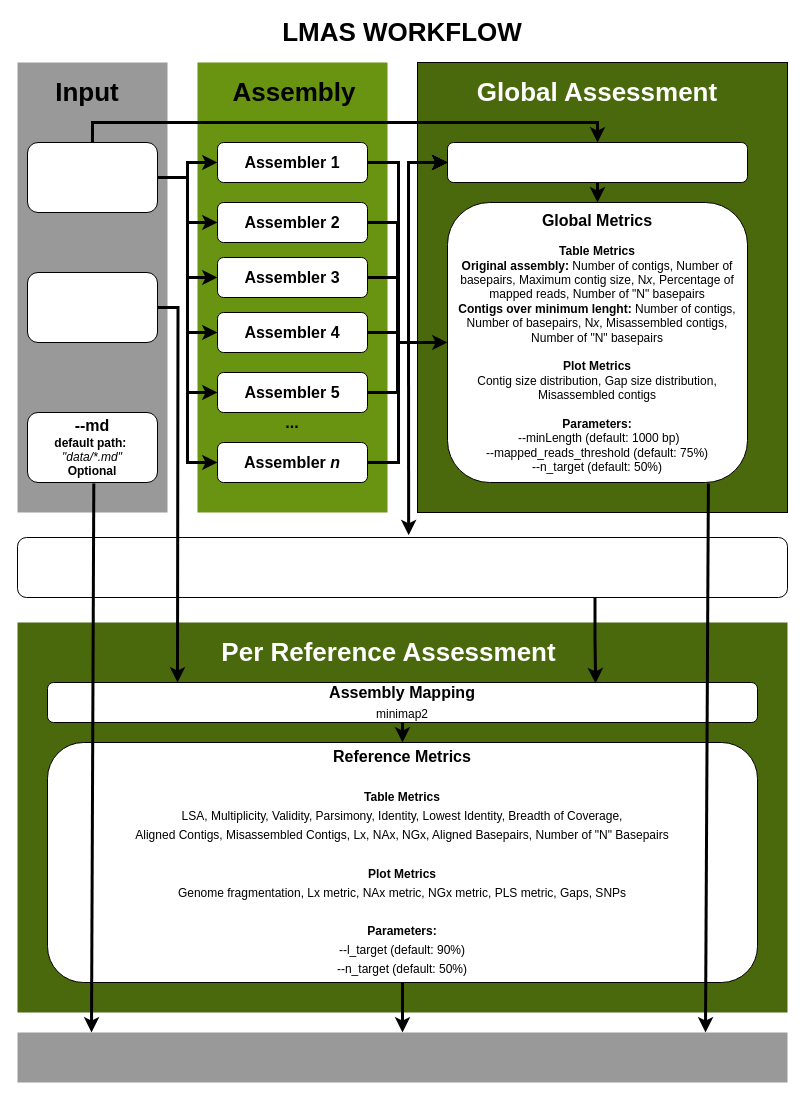
The diagram is 805 pixels wide and 1100 high, and some of its shapes have lost their labels. The centre of each missing label's shape, as x and y in pixels:
--fastq default path: "data/fastq/*_{1,2}*": (x=92, y=177)
--reference default path: "data/reference/*.fasta": (x=92, y=307)
Filter Assembly bbTools parameters: --minLength (default: 1000 bp): (x=402, y=567)
Interactive Report: (x=402, y=1057)
Read Mapping minimap2: (x=597, y=162)
